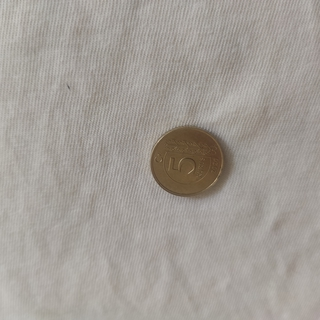5KURUS: (149, 123, 226, 198)
